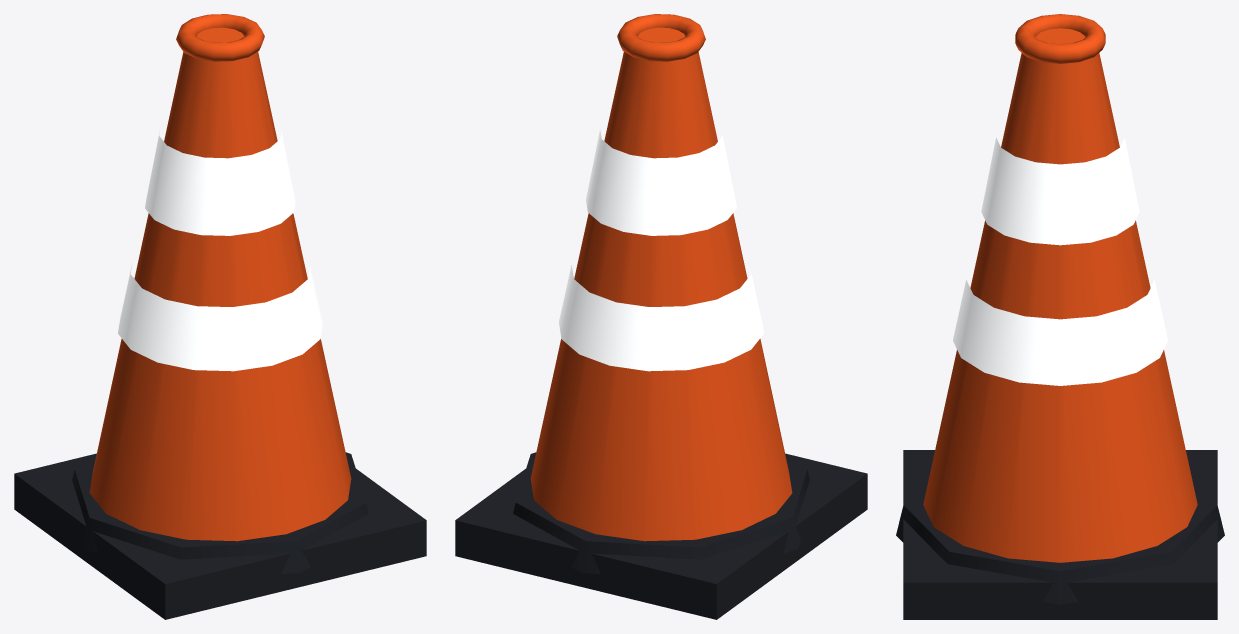
Rendered from prop_cone.glb.
3 renders of one model, left to right at view 1: azimuth 30°, elevation 25°; view 2: azimuth 150°, elevation 25°; view 3: azimuth 270°, elevation 25°, orthographic. The views are drawn at different scales.
Parts seen in each view (by area): view 1: prop_cone; view 2: prop_cone; view 3: prop_cone.
Part boxes in pixels (x1=…): prop_cone: x1=14, y1=14, x2=426, y2=619; prop_cone: x1=455, y1=14, x2=867, y2=619; prop_cone: x1=896, y1=14, x2=1224, y2=619.
Bounding box in the file's own units: 0.44 × 0.7735 × 0.44.
